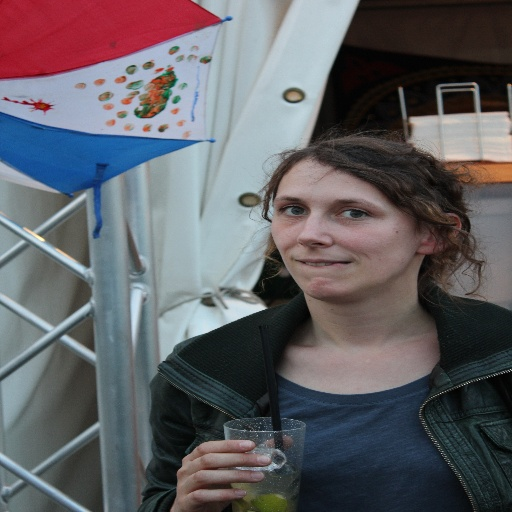hand: (169, 432, 294, 511)
